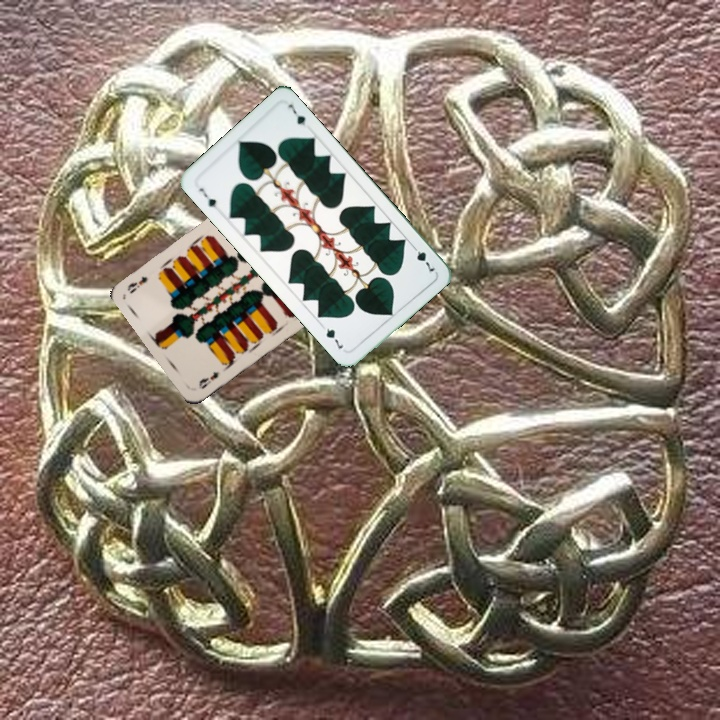E9: (194, 367, 221, 392)
G7: (407, 241, 438, 274), (194, 184, 221, 214)
